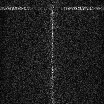wifi: (1, 6, 104, 10)
